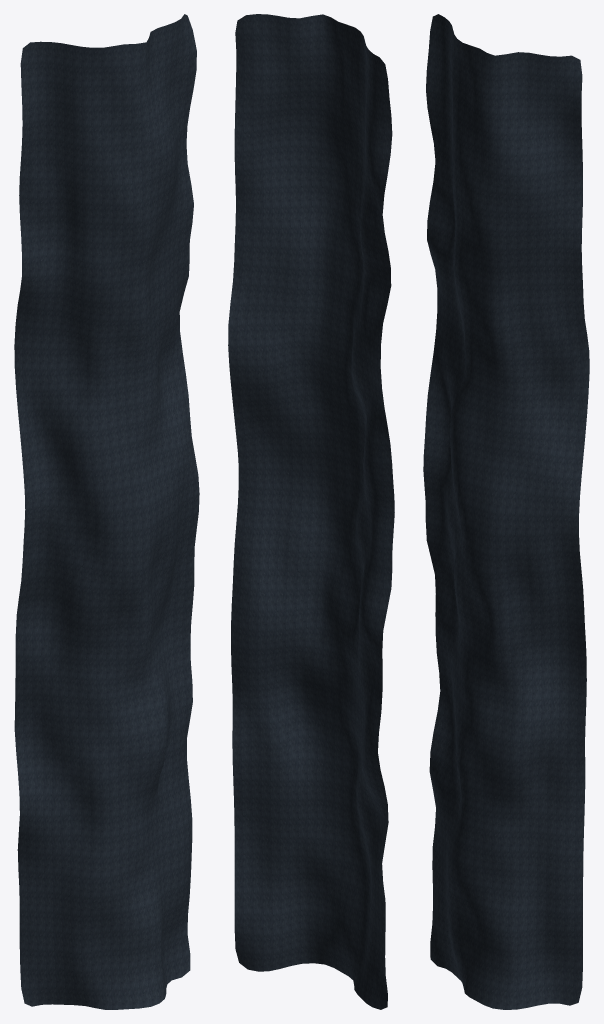
The model's file is environment.fbx.
3 views of the same model, side by side, from view 1: azimuth 30°, elevation 25°; view 2: azimuth 150°, elevation 25°; view 3: azimuth 330°, elevation 25° (orthographic).
Visible parts, largest first — view 1: Cylinder_2; view 2: Cylinder_2; view 3: Cylinder_2.
Part boxes in pixels (box(x1,y1,x2,y2)): Cylinder_2: box(14, 14, 199, 1009); Cylinder_2: box(228, 14, 394, 1009); Cylinder_2: box(423, 14, 589, 1009).
Size of the model in its own units: 6969 by 38503 by 3004.
1 material, 1 textured.
